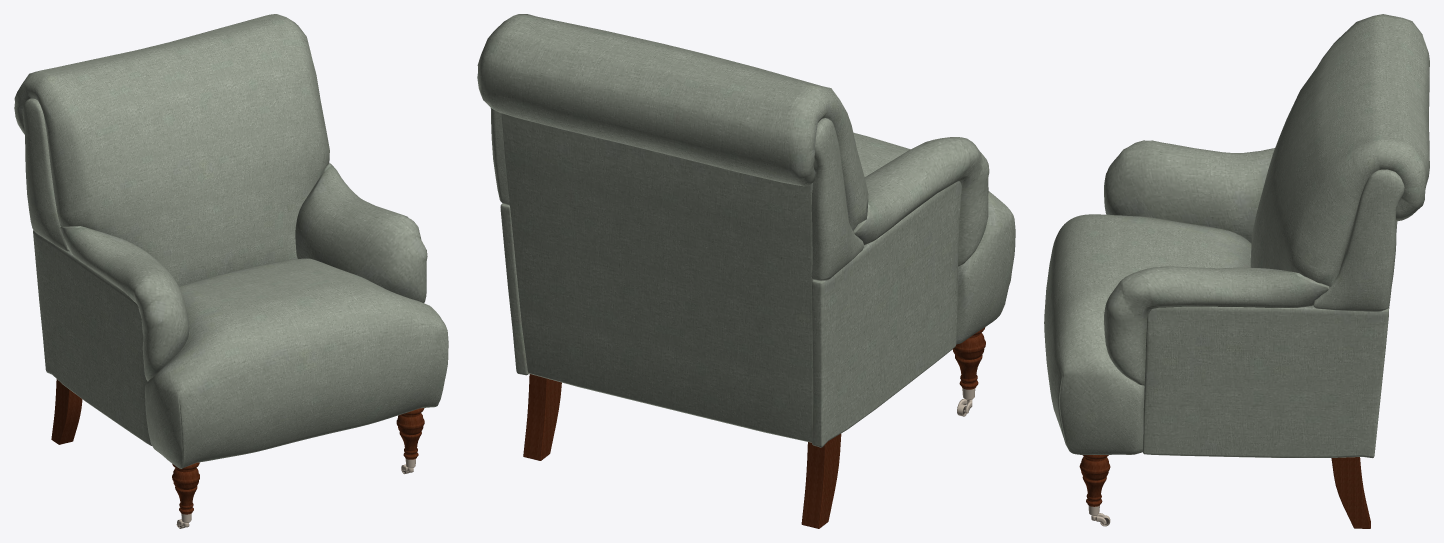
The model's file is abo-B075X4VWKK.glb.
3 renders of one model, left to right at view 1: azimuth 30°, elevation 25°; view 2: azimuth 150°, elevation 25°; view 3: azimuth 270°, elevation 25°, orthographic. The views are drawn at different scales.
Bounding box in the file's own units: 0.964 × 1.18 × 1.06.
1 material, 1 textured.
